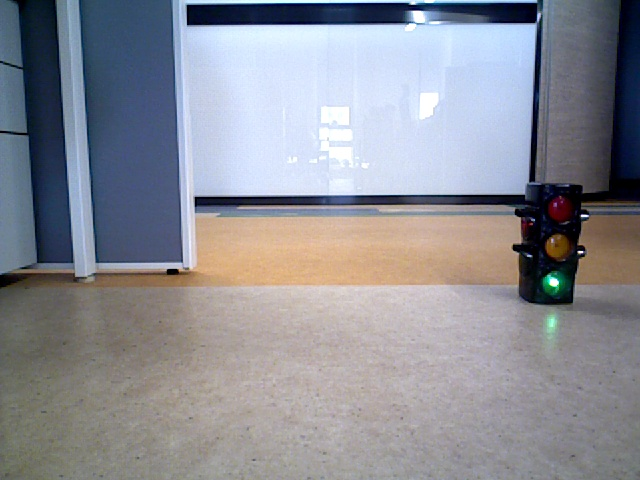green: (528, 187, 570, 299)
